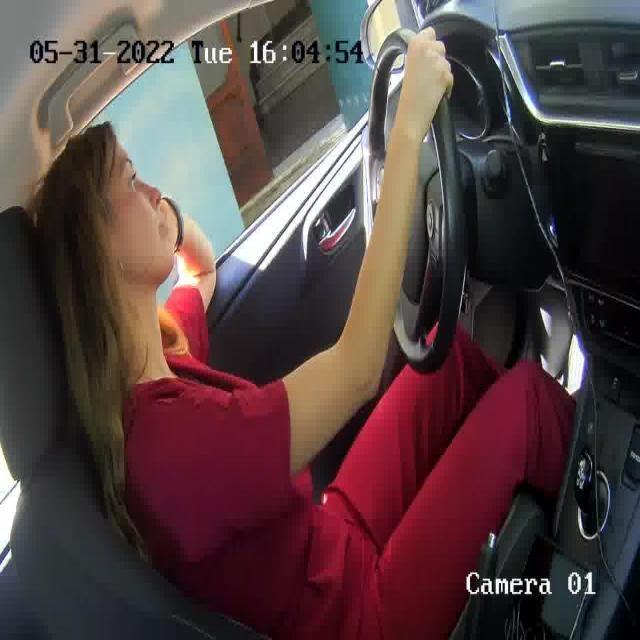Attentive: (31, 119, 192, 288)
Eye-Open: (124, 171, 140, 189)
Normal: (150, 217, 172, 244)
